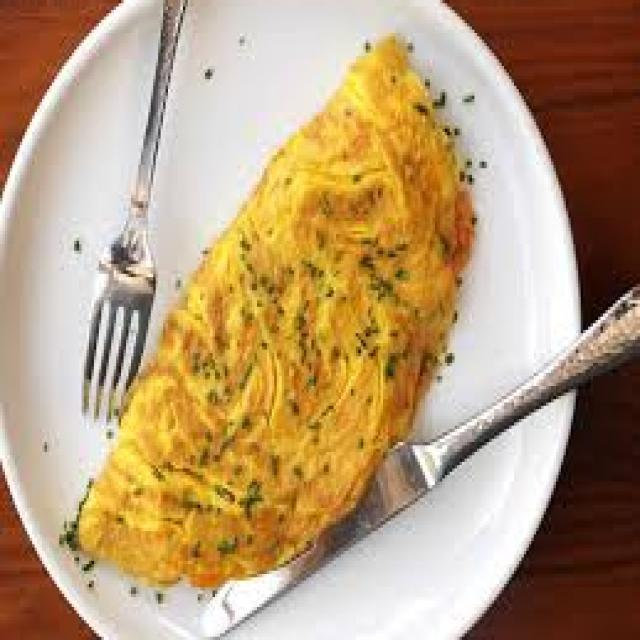telur_ayam_dadar: (70, 36, 477, 594)
